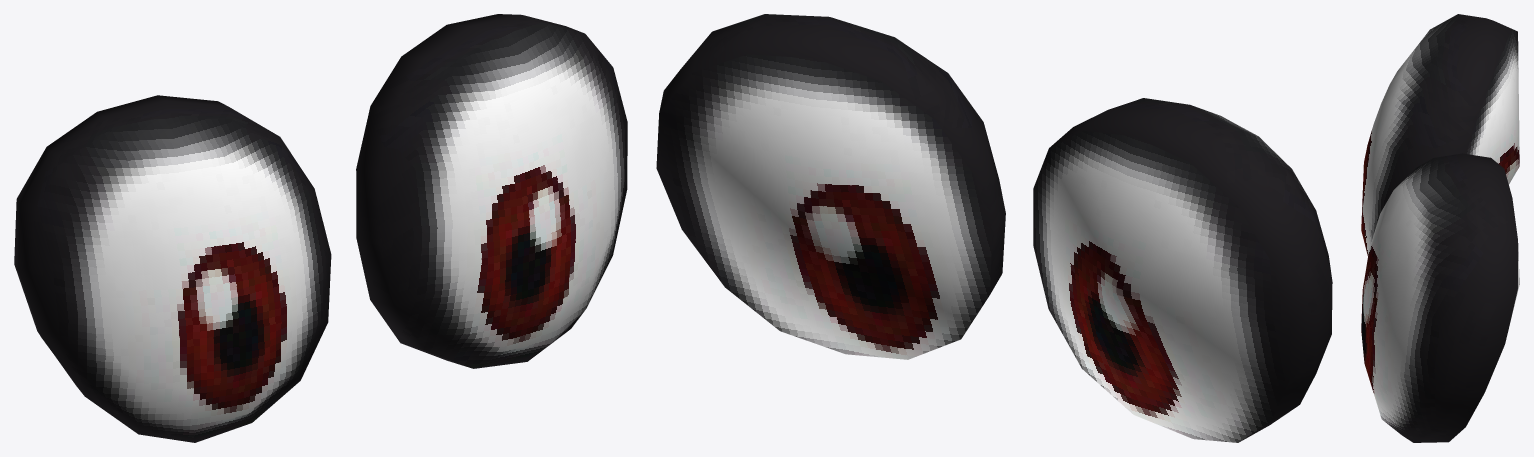
Rendered from m_e_gwanu.FBX.
3 renders of one model, left to right at view 1: azimuth 30°, elevation 25°; view 2: azimuth 150°, elevation 25°; view 3: azimuth 270°, elevation 25°, orthographic. The views are drawn at different scales.
Visible parts, largest first — view 1: eye; view 2: eye; view 3: eye.
Boxes of the visible parts, x1,y1,x2,y2 form: eye: (14,14,627,442); eye: (656,14,1332,442); eye: (1361,14,1519,442).
Size of the model in its own units: 5.24 by 2.61 by 1.4.
